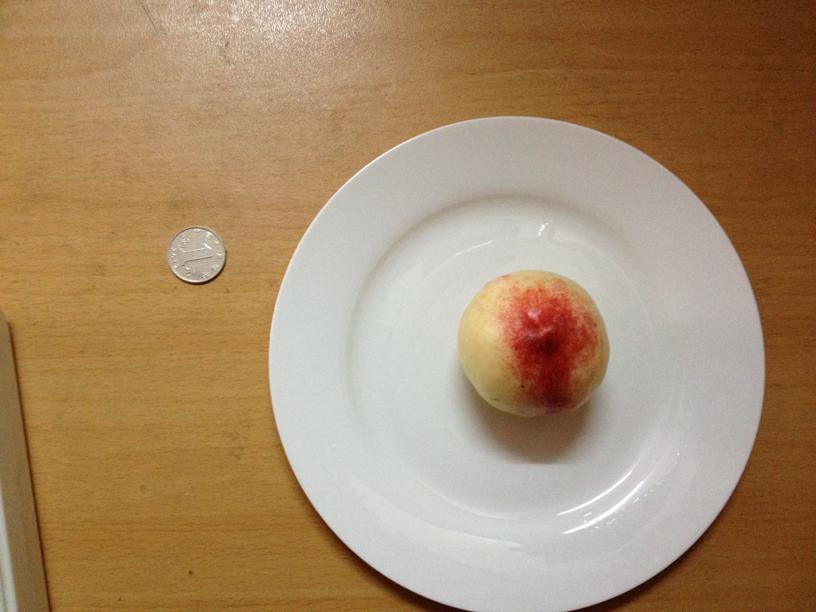coin: (163, 227, 226, 282)
peach: (456, 272, 607, 416)
